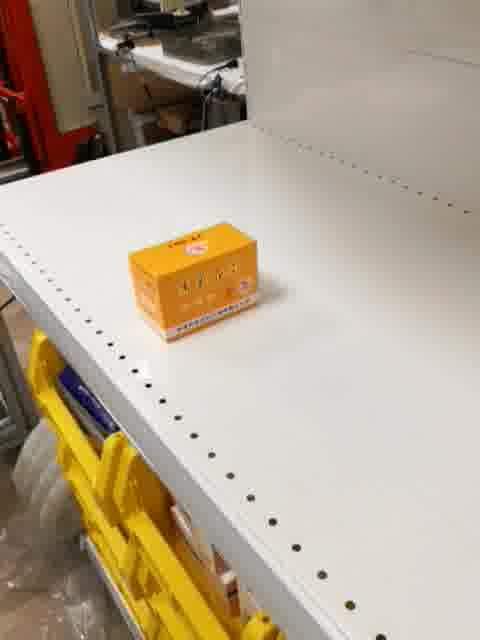jasminetea: (126, 219, 262, 343)
